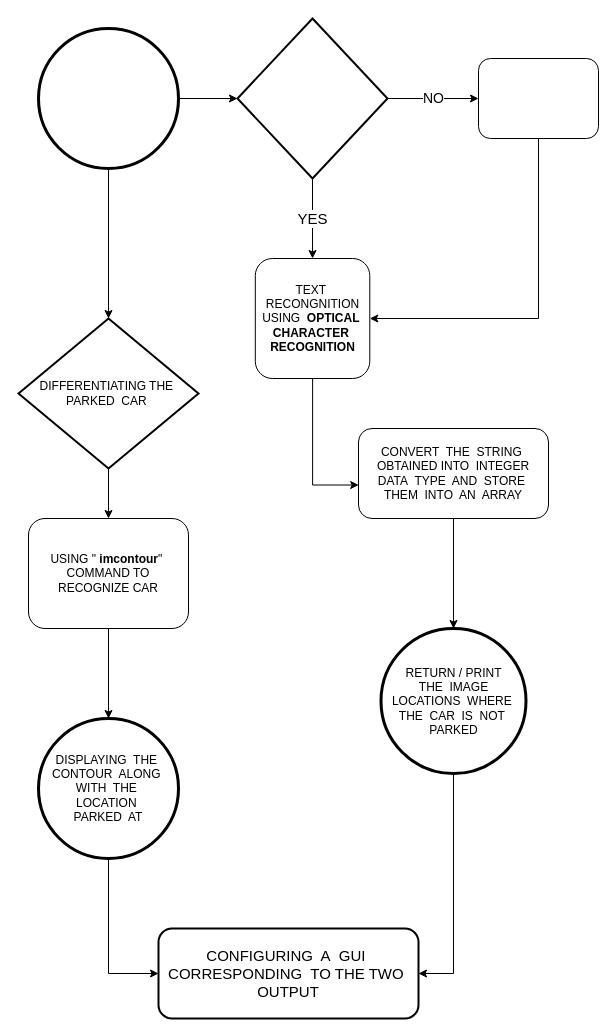
This 616x1036 diagram has some shape labels left out. Here are the shapes that lost their labels. From the top down, the centre of each, then its label:
the point at 108,98: IMAGE ACQUISITION AND IMAGE FILTERING
the point at 312,98: IMAGE PRESENT IN BINARY FORM
the point at 538,98: BINARIZE THE COLOURED IMAGE
